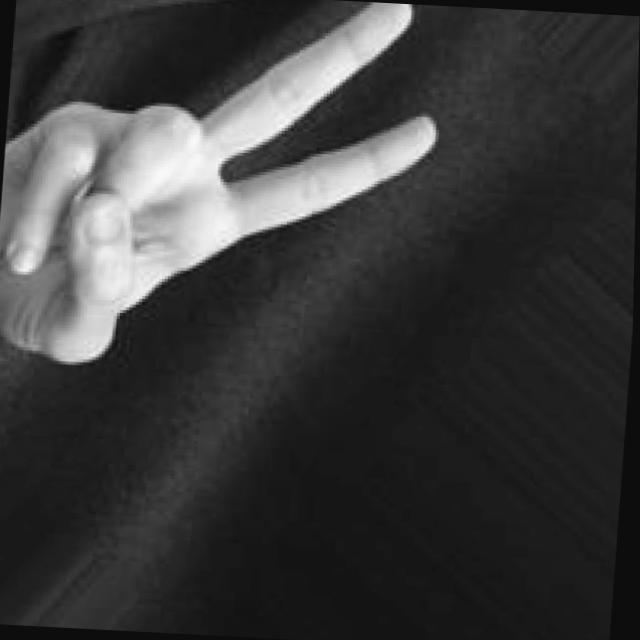V: (0, 0, 454, 380)
